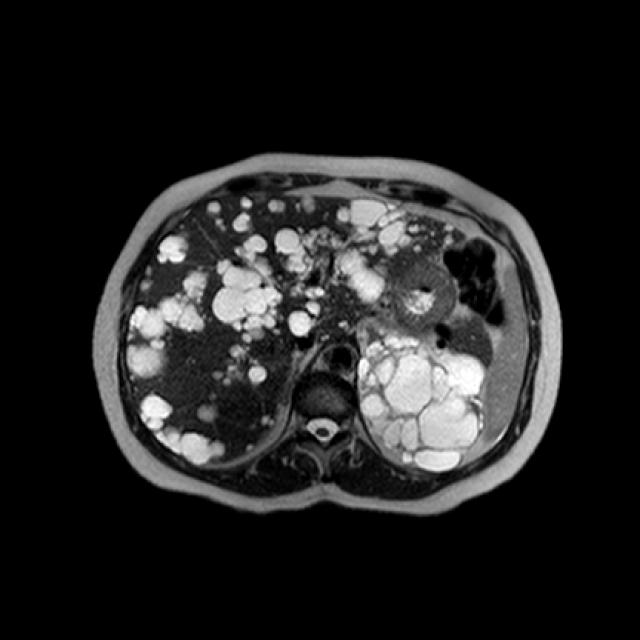sol: (359, 337, 488, 472)
